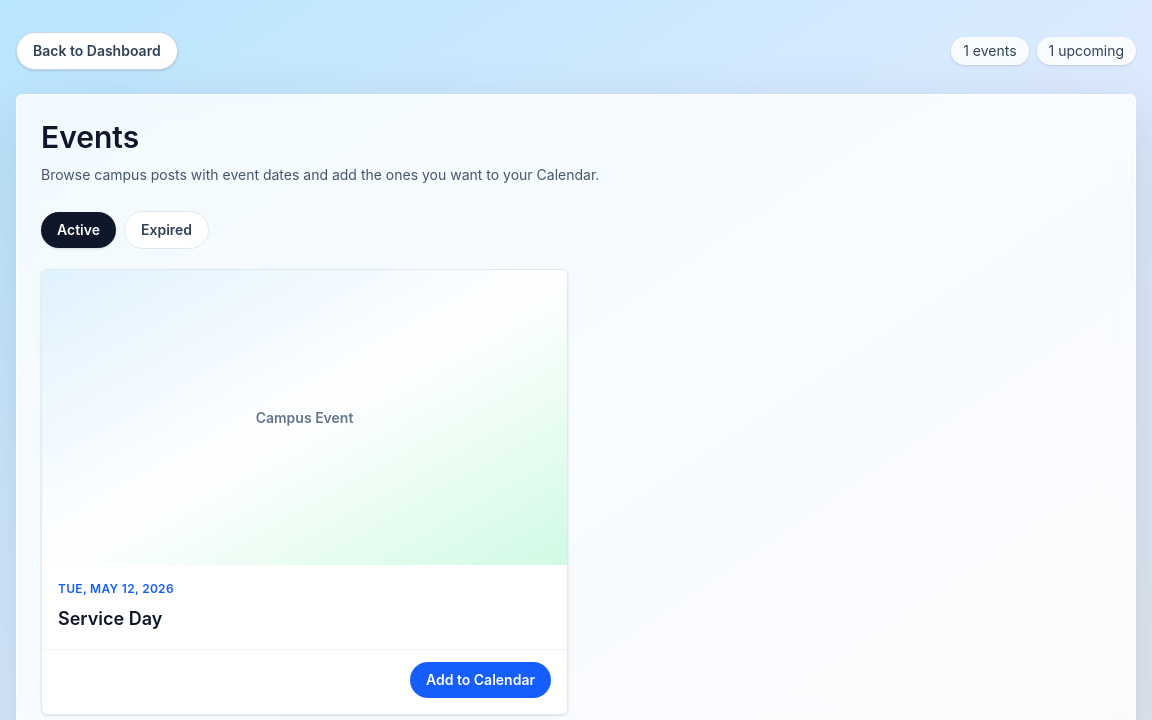
Test: EventsPage › shows when an event is already on the calendar
Step 1. Click the button "Add to Calendar" → (480, 680), box [410, 662, 551, 698]
(page scrolled)
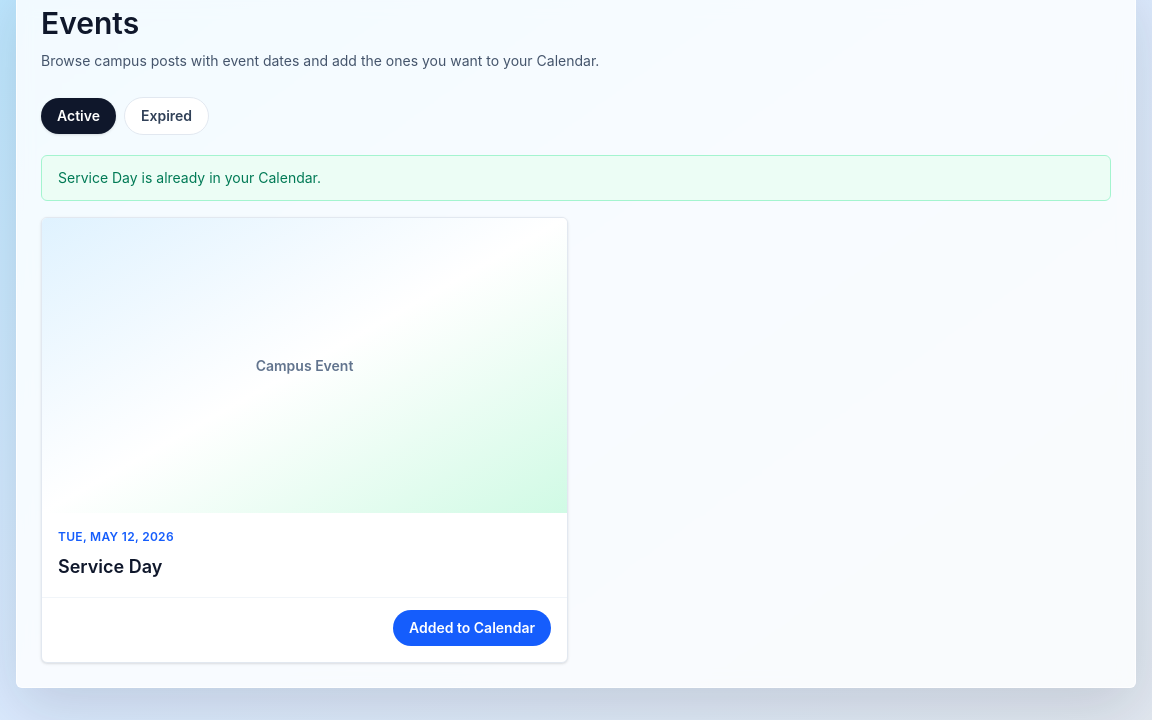
Expected: the text "Service Day is already in your Calendar." is shown, [41, 155, 1111, 201]
Expected: the button "Added to Calendar" is shown, [393, 610, 551, 646]
